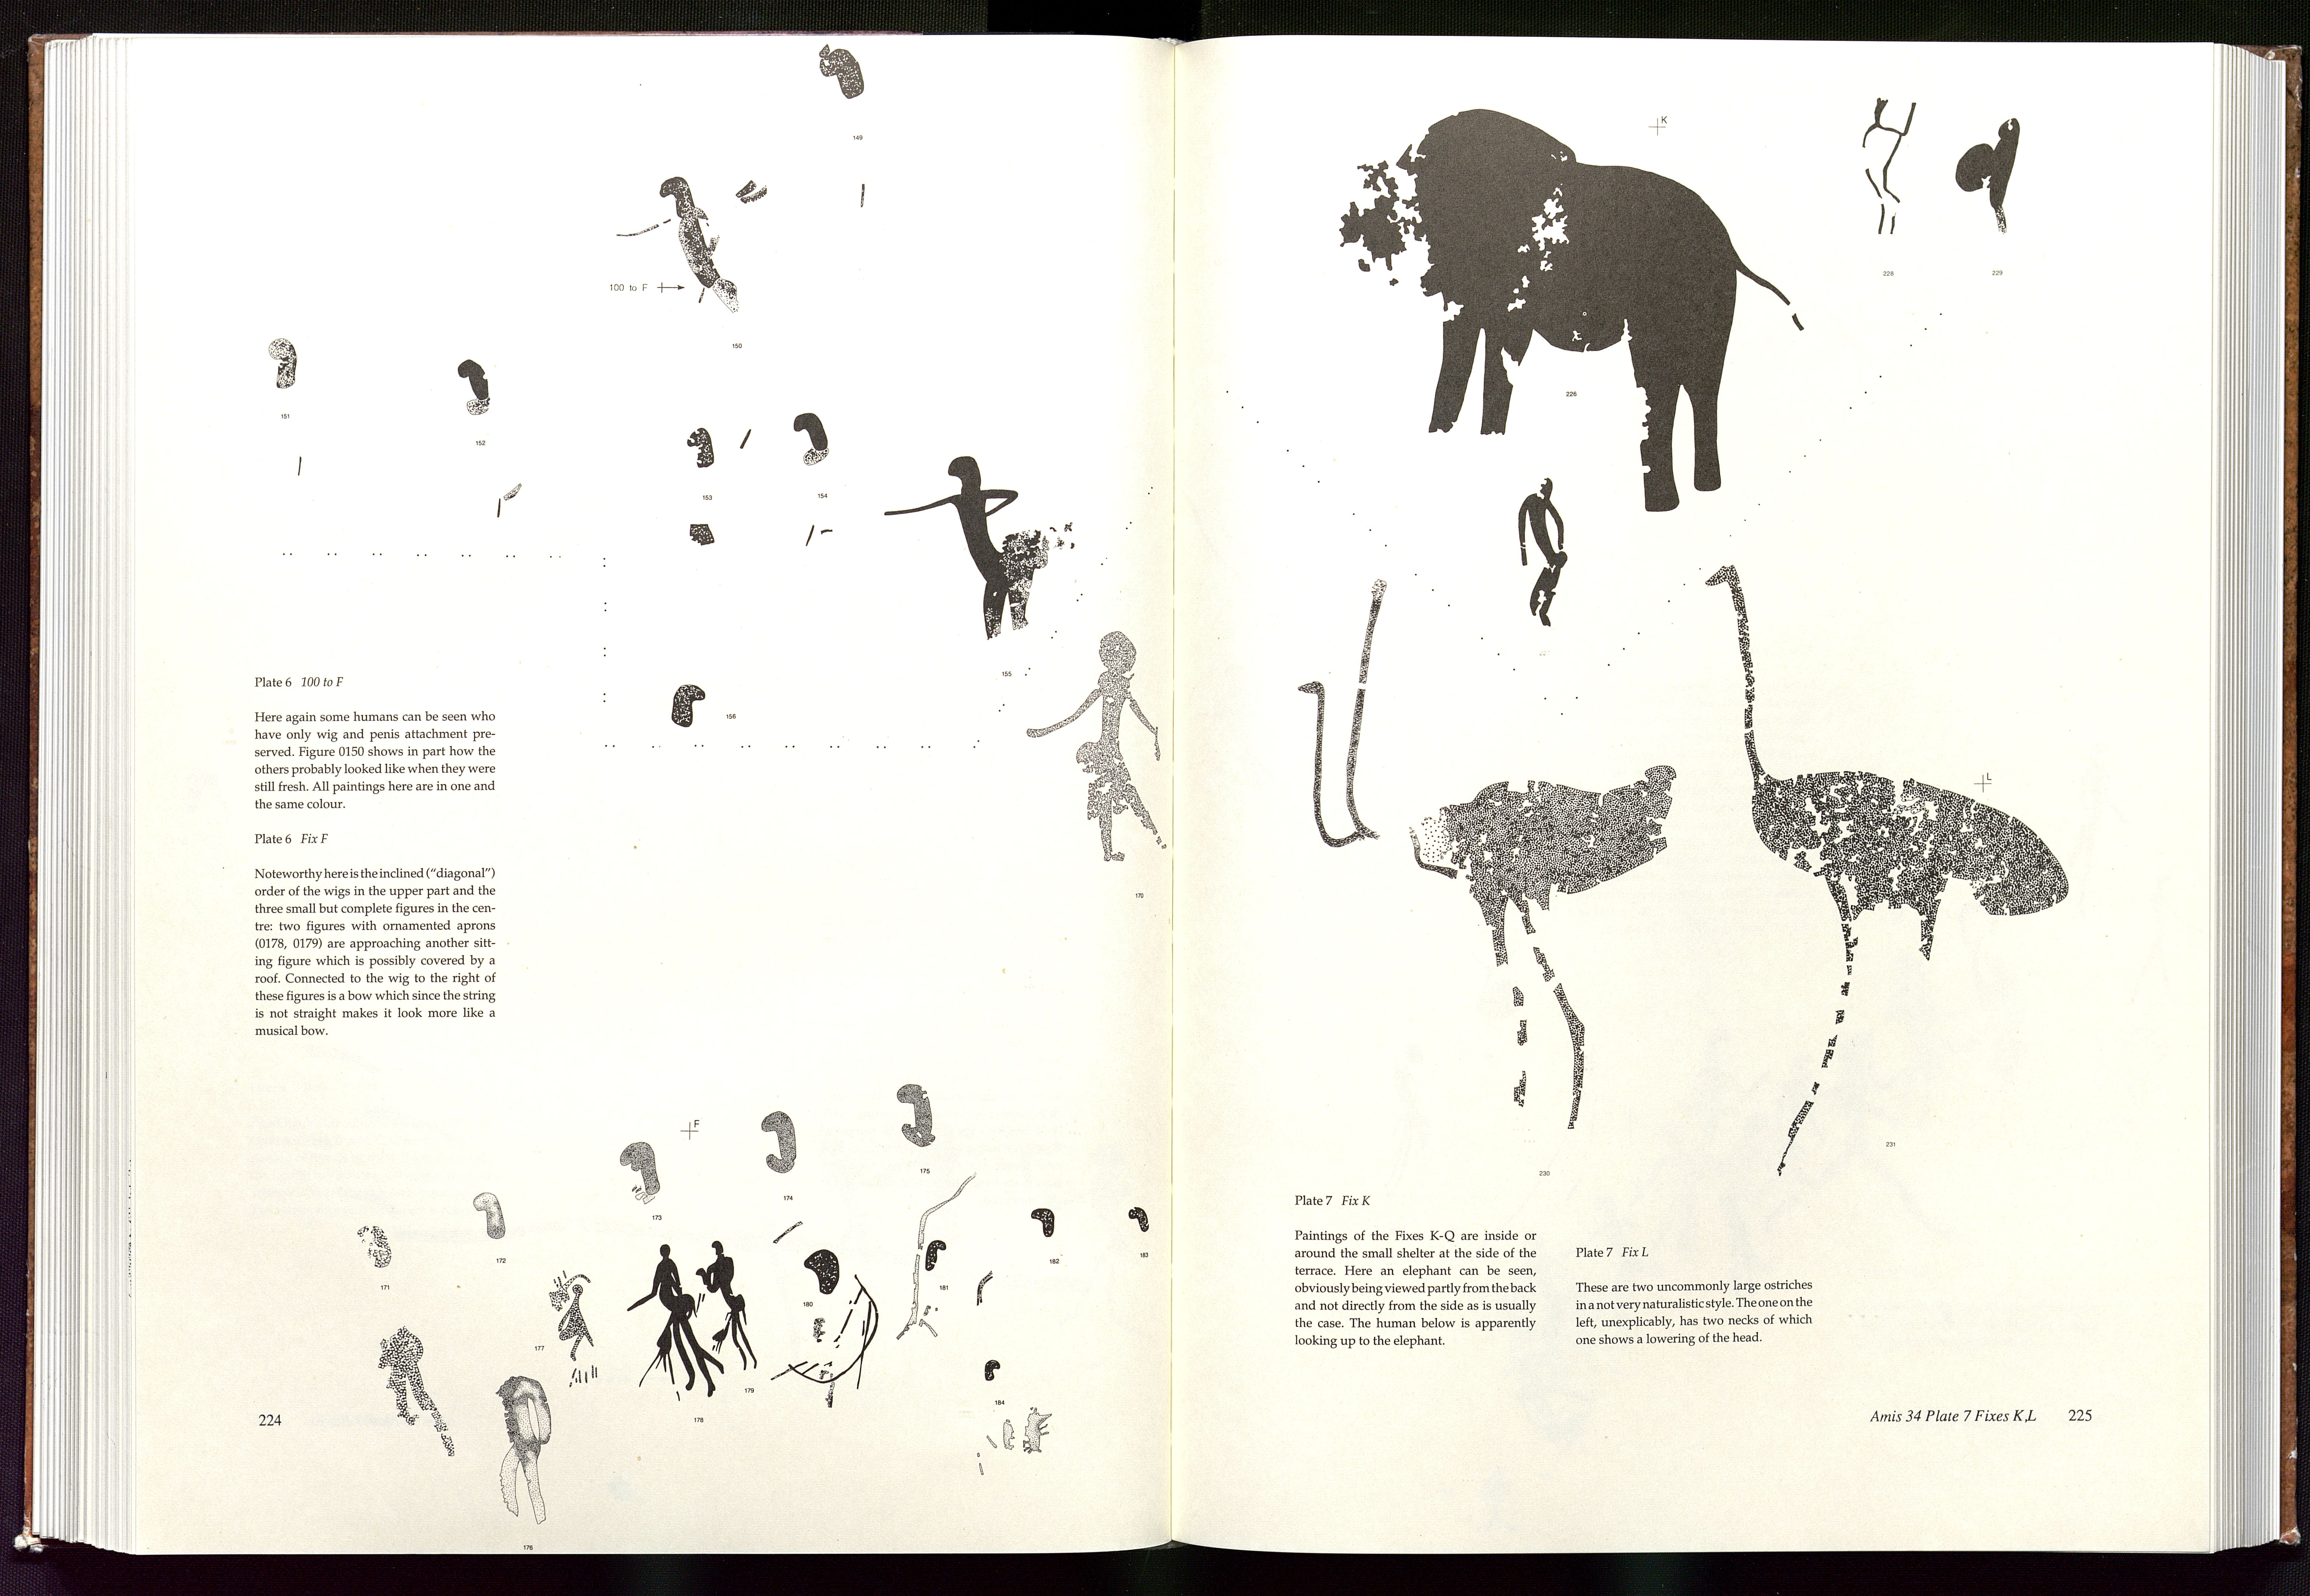animal: (1684, 561, 2082, 1187), (1303, 573, 1684, 1130), (1325, 109, 1816, 526)
human: (1023, 622, 1171, 880), (881, 443, 1050, 644), (618, 171, 748, 333), (630, 1246, 731, 1403)
